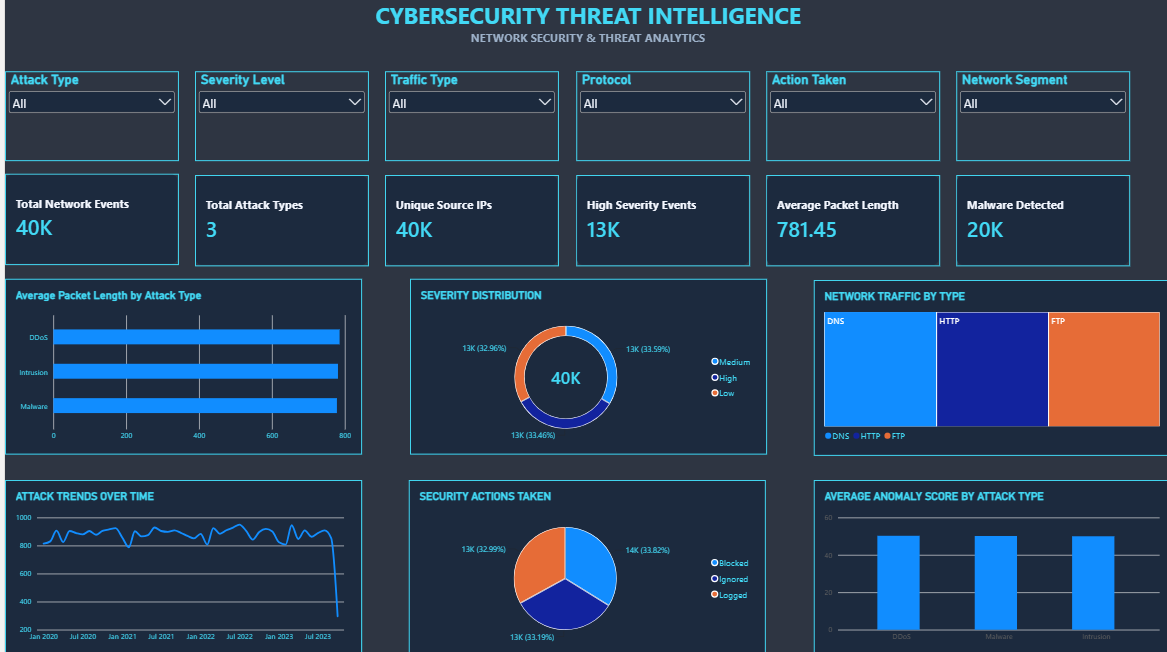

The page's visual inventory and layout, read from the dashboard file:
{"tool":"powerbi","page":{"name":"Page 1","canvas":[1920,1080],"ordinal":0},"visuals":[{"type":"textbox","box":[0,0,1920.4,100.9],"z":0},{"type":"slicer","fields":{"Values":["cybersecurity_attacks.Attack Type"]},"box":[0,117.3,286.1,148.2],"z":1000},{"type":"slicer","fields":{"Values":["cybersecurity_attacks.Severity Level"]},"box":[313.3,117.3,286.1,148.2],"z":2000},{"type":"slicer","fields":{"Values":["cybersecurity_attacks.Traffic Type"]},"box":[626.6,117.3,286.1,148.2],"z":3000},{"type":"slicer","fields":{"Values":["cybersecurity_attacks.Protocol"]},"box":[939.8,117.3,286.1,148.2],"z":4000},{"type":"slicer","fields":{"Values":["cybersecurity_attacks.Action Taken"]},"box":[1253.1,117.3,286.1,148.2],"z":5000},{"type":"slicer","fields":{"Values":["cybersecurity_attacks.Network Segment"]},"box":[1566.4,117.3,286.1,148.2],"z":6000},{"type":"cardVisual","fields":{"Data":["cybersecurity_attacks.Total Network Events"]},"box":[0,285.3,286,150],"z":7000},{"type":"cardVisual","fields":{"Data":["cybersecurity_attacks.Total Attack Types"]},"box":[313.3,287.3,286,150],"z":8000},{"type":"cardVisual","fields":{"Data":["cybersecurity_attacks.Unique Source IPs"]},"box":[626.6,287.3,286,150],"z":9000},{"type":"cardVisual","fields":{"Data":["cybersecurity_attacks.High Severity Events"]},"box":[939.8,287.3,286,150],"z":10000},{"type":"cardVisual","fields":{"Data":["cybersecurity_attacks.Average Packet Length"]},"box":[1253.1,287.3,286,150],"z":11000},{"type":"cardVisual","fields":{"Data":["cybersecurity_attacks.Malware Detected"]},"box":[1566.4,287.3,286,150],"z":12000},{"type":"clusteredBarChart","title":"Average Packet Length by Attack Type","fields":{"Category":["cybersecurity_attacks.Attack Type"],"Y":["cybersecurity_attacks.Average Packet Length"]},"box":[0,459.7,588.1,289.5],"z":13000},{"type":"donutChart","title":"SEVERITY DISTRIBUTION","fields":{"Category":["cybersecurity_attacks.Severity Level"],"Y":["cybersecurity_attacks.Attack Count"]},"box":[666,459.7,588.1,289.5],"z":14000},{"type":"treemap","title":"NETWORK TRAFFIC BY TYPE","fields":{"Group":["cybersecurity_attacks.Traffic Type"],"Values":["cybersecurity_attacks.Attack Count"]},"box":[1331.9,461.5,588.1,289.5],"z":15000},{"type":"lineChart","title":"NETWORK TRAFFIC BY TYPE","fields":{"Category":["cybersecurity_attacks.Timestamp.Variation.Date Hierarchy.Year","cybersecurity_attacks.Timestamp.Variation.Date Hierarchy.Month"],"Y":["cybersecurity_attacks.Attack Count"]},"box":[0,790.8,588.1,289.5],"z":16000},{"type":"lineChart","title":"ATTACK TRENDS OVER TIME","fields":{"Category":["cybersecurity_attacks.Timestamp.Variation.Date Hierarchy.Year","cybersecurity_attacks.Timestamp.Variation.Date Hierarchy.Month"],"Y":["cybersecurity_attacks.Attack Count"]},"box":[0,790.5,588.1,289.5],"z":17000},{"type":"pieChart","title":"SECURITY ACTIONS TAKEN","fields":{"Category":["cybersecurity_attacks.Action Taken"],"Y":["cybersecurity_attacks.Attack Count"]},"box":[664.8,790.4,588.1,289.5],"z":17001},{"type":"clusteredColumnChart","title":"\tAVERAGE ANOMALY SCORE BY ATTACK TYPE","fields":{"Category":["cybersecurity_attacks.Attack Type"],"Y":["Avg(cybersecurity_attacks.Anomaly Scores)"]},"box":[1331.7,790.4,588.1,289.5],"z":17002}]}

Visuals, with their boxes in screenshot pixels (x1, y1, x2, y2), scaled from the page's 1920x1080 canvas onto the 1167x652 screenshot:
textbox: {"x1": 0, "y1": 0, "x2": 1166, "y2": 61}
slicer - cybersecurity_attacks.Attack Type: {"x1": 0, "y1": 71, "x2": 174, "y2": 160}
slicer - cybersecurity_attacks.Severity Level: {"x1": 190, "y1": 71, "x2": 364, "y2": 160}
slicer - cybersecurity_attacks.Traffic Type: {"x1": 381, "y1": 71, "x2": 555, "y2": 160}
slicer - cybersecurity_attacks.Protocol: {"x1": 571, "y1": 71, "x2": 745, "y2": 160}
slicer - cybersecurity_attacks.Action Taken: {"x1": 762, "y1": 71, "x2": 936, "y2": 160}
slicer - cybersecurity_attacks.Network Segment: {"x1": 952, "y1": 71, "x2": 1126, "y2": 160}
cardVisual - cybersecurity_attacks.Total Network Events: {"x1": 0, "y1": 172, "x2": 174, "y2": 263}
cardVisual - cybersecurity_attacks.Total Attack Types: {"x1": 190, "y1": 173, "x2": 364, "y2": 264}
cardVisual - cybersecurity_attacks.Unique Source IPs: {"x1": 381, "y1": 173, "x2": 555, "y2": 264}
cardVisual - cybersecurity_attacks.High Severity Events: {"x1": 571, "y1": 173, "x2": 745, "y2": 264}
cardVisual - cybersecurity_attacks.Average Packet Length: {"x1": 762, "y1": 173, "x2": 935, "y2": 264}
cardVisual - cybersecurity_attacks.Malware Detected: {"x1": 952, "y1": 173, "x2": 1126, "y2": 264}
"Average Packet Length by Attack Type" clusteredBarChart: {"x1": 0, "y1": 278, "x2": 357, "y2": 452}
"SEVERITY DISTRIBUTION" donutChart: {"x1": 405, "y1": 278, "x2": 762, "y2": 452}
"NETWORK TRAFFIC BY TYPE" treemap: {"x1": 810, "y1": 279, "x2": 1166, "y2": 453}
"NETWORK TRAFFIC BY TYPE" lineChart: {"x1": 0, "y1": 477, "x2": 357, "y2": 651}
"ATTACK TRENDS OVER TIME" lineChart: {"x1": 0, "y1": 477, "x2": 357, "y2": 651}
"SECURITY ACTIONS TAKEN" pieChart: {"x1": 404, "y1": 477, "x2": 762, "y2": 651}
"	AVERAGE ANOMALY SCORE BY ATTACK TYPE" clusteredColumnChart: {"x1": 809, "y1": 477, "x2": 1166, "y2": 651}
